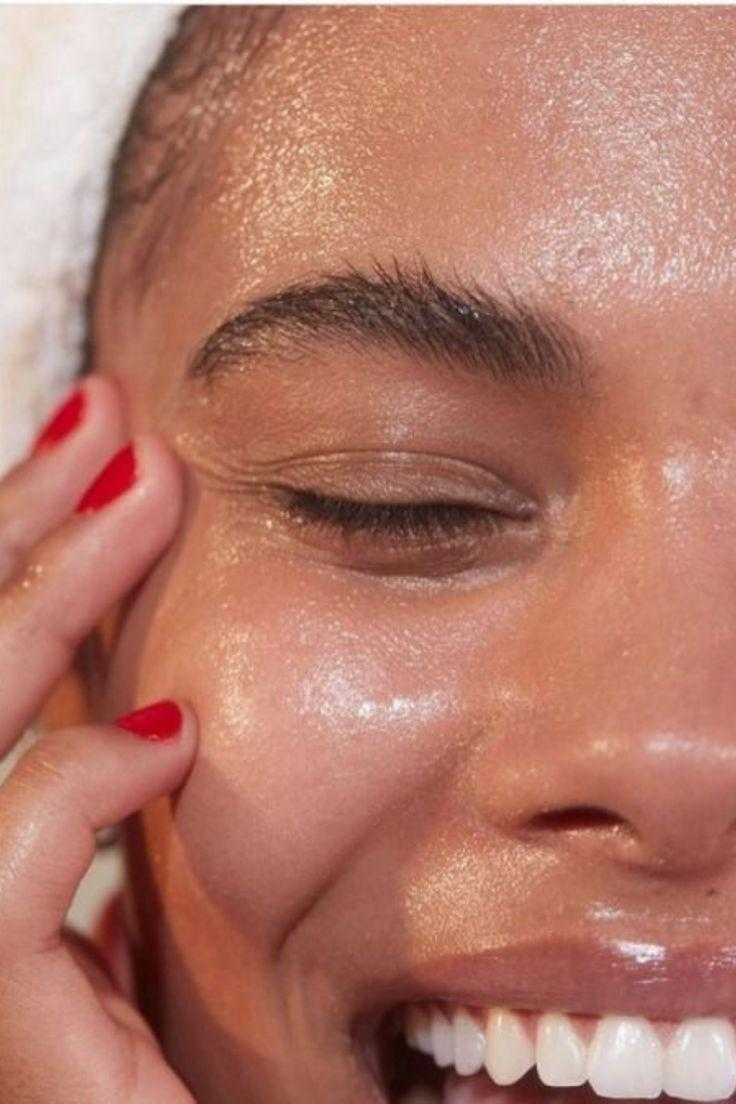Oily-Skin: (224, 634, 424, 733), (238, 81, 346, 241), (644, 394, 736, 553), (644, 638, 736, 773)
